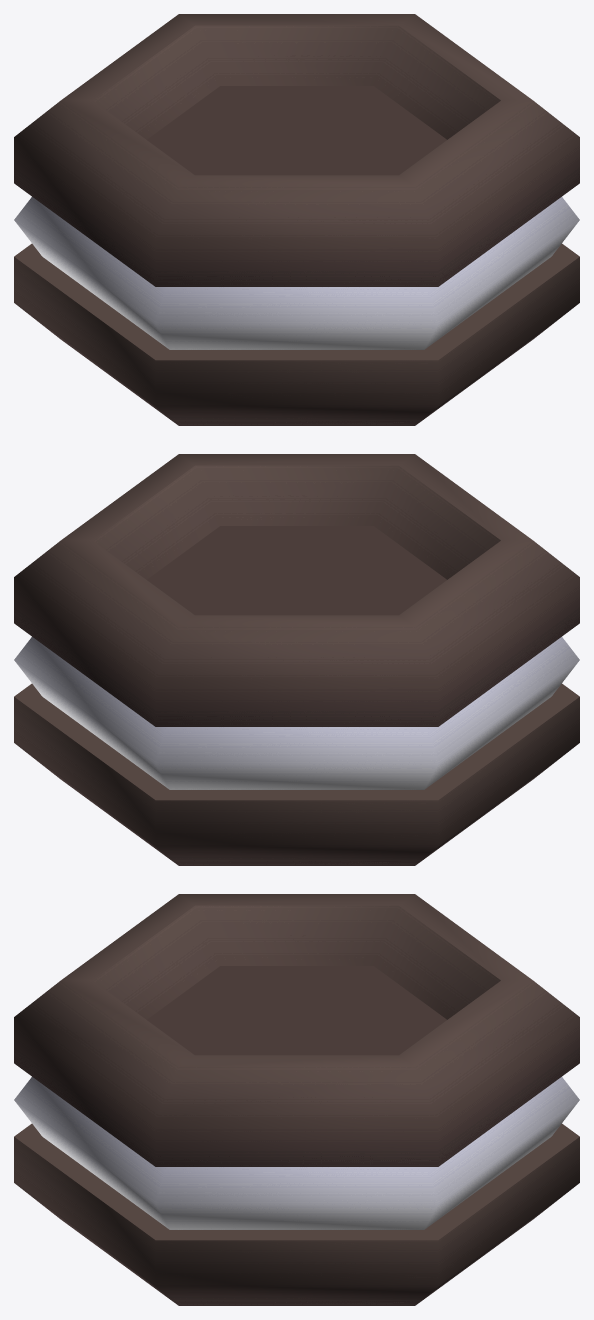
Rendered from cookie-chocolate.glb.
The picture shows the model from 3 angles, top to bottom: view 1: azimuth 30°, elevation 25°; view 2: azimuth 150°, elevation 25°; view 3: azimuth 270°, elevation 25°; orthographic projection.
Parts seen in each view (by area): view 1: cookie-chocolate; view 2: cookie-chocolate; view 3: cookie-chocolate.
Part boxes in pixels (bbox=[...]): cookie-chocolate: bbox=[14, 14, 579, 425]; cookie-chocolate: bbox=[14, 454, 579, 865]; cookie-chocolate: bbox=[14, 894, 579, 1305].
Size of the model in its own units: 0.1212 by 0.0652 by 0.14.
1 material, 1 textured.
